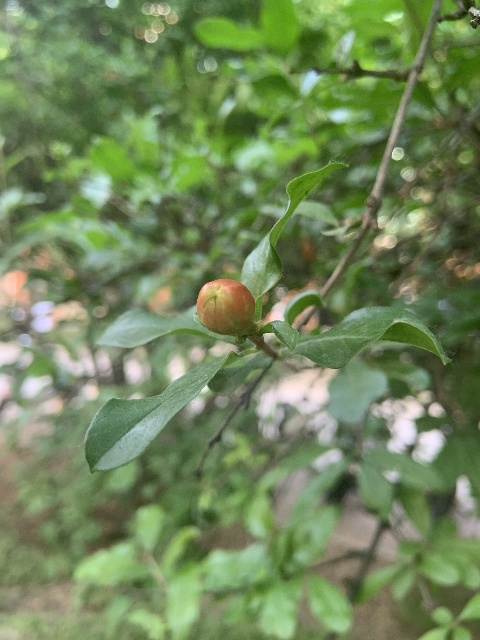bud: (196, 277, 256, 336)
